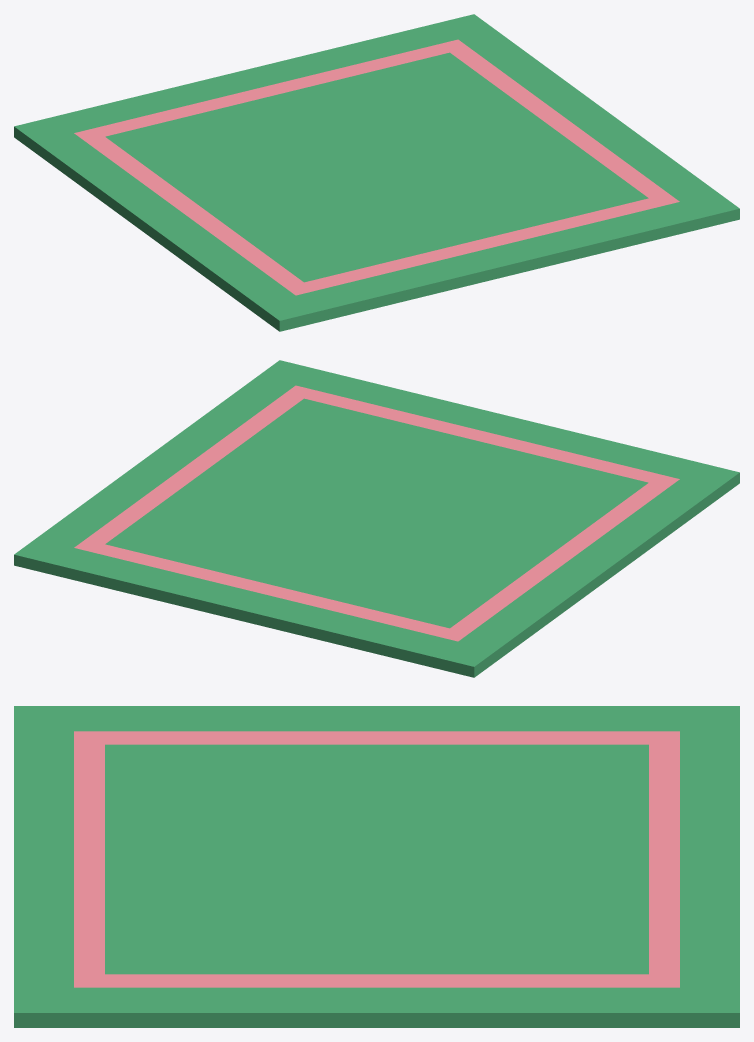
Rendered from Record_case.fbx.
3 views of the same model, one above another, from view 1: azimuth 30°, elevation 25°; view 2: azimuth 150°, elevation 25°; view 3: azimuth 270°, elevation 25° (orthographic). The views are drawn at different scales.
Visible parts, largest first — view 1: Plane.235; view 2: Plane.235; view 3: Plane.235.
Part boxes in pixels (bbox=[...]): Plane.235: bbox=[14, 14, 739, 331]; Plane.235: bbox=[14, 360, 739, 677]; Plane.235: bbox=[14, 706, 739, 1027].
Bounding box in the file's own units: 0.9458 × 0.9458 × 0.0215.
